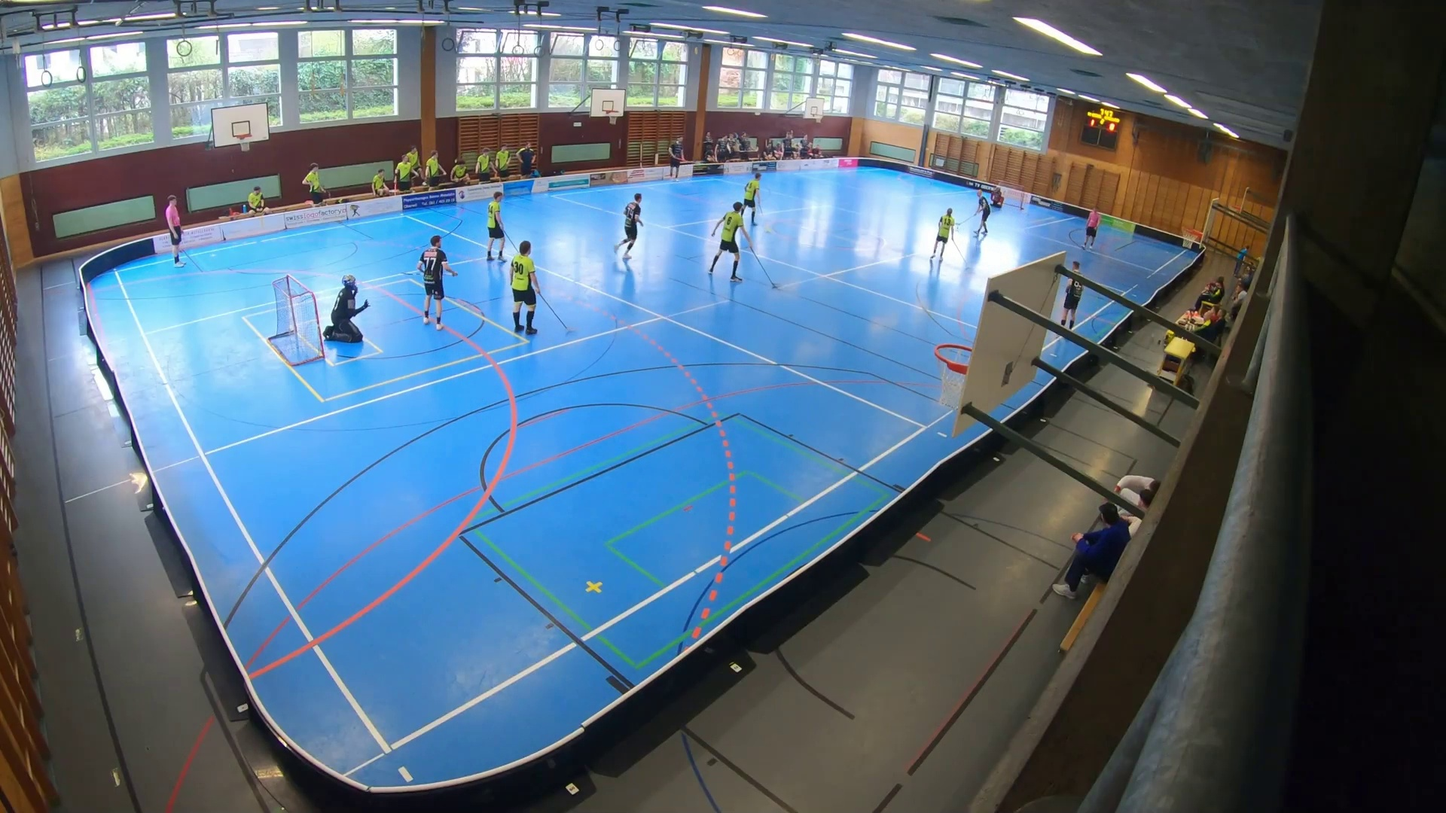Schiri: (156, 193, 195, 271), (1081, 200, 1102, 255)
ball: (955, 226, 959, 230)
goalkeeper: (320, 270, 376, 359), (989, 182, 1006, 210)
player: (505, 237, 586, 351), (707, 201, 787, 297), (412, 236, 470, 344), (607, 189, 651, 266), (926, 203, 975, 271), (731, 166, 778, 236), (476, 187, 519, 261), (662, 132, 701, 186), (954, 187, 993, 239), (1061, 250, 1083, 333)
